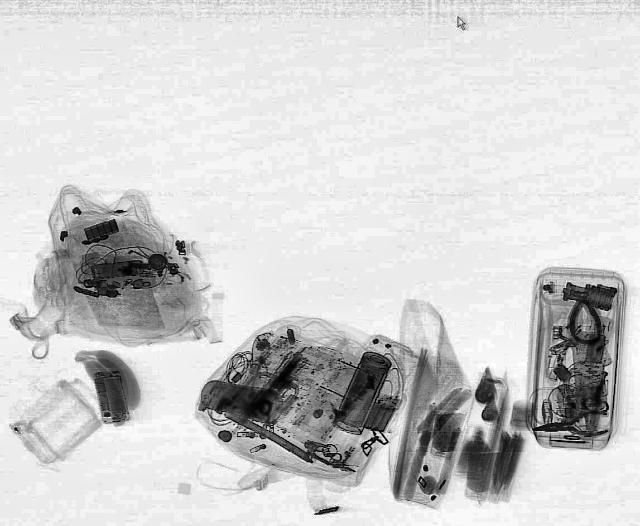Pliers: (531, 407, 611, 442)
